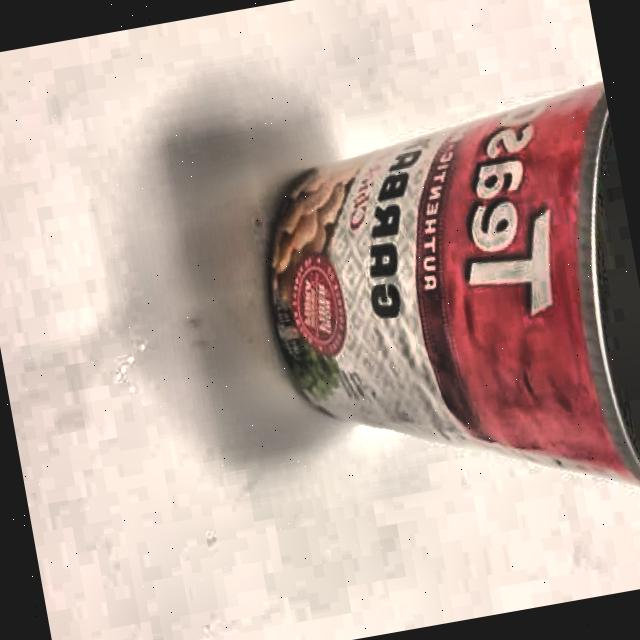metal: (247, 75, 640, 518)
